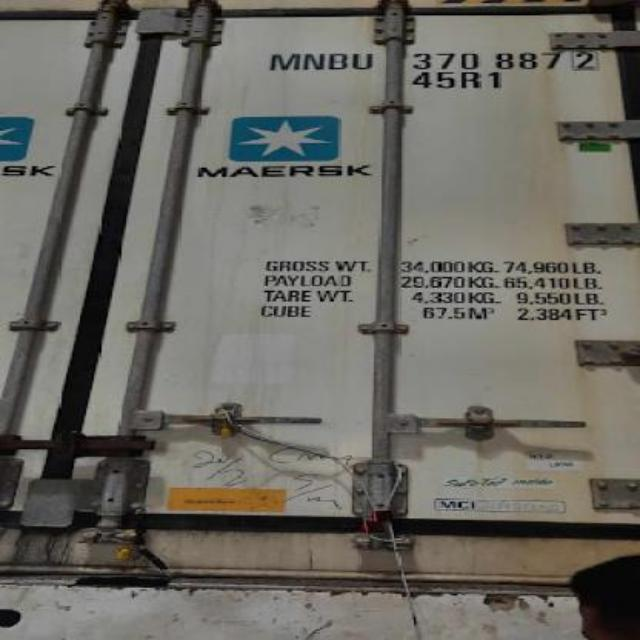0: (458, 51, 486, 71)
2: (572, 51, 600, 71)
3: (410, 52, 436, 68)
7: (540, 51, 566, 69), (436, 52, 458, 70)
8: (516, 51, 542, 71), (492, 52, 518, 70)
B: (326, 53, 350, 71)
M: (268, 53, 302, 71)
N: (302, 54, 326, 70)
U: (350, 54, 376, 70)
